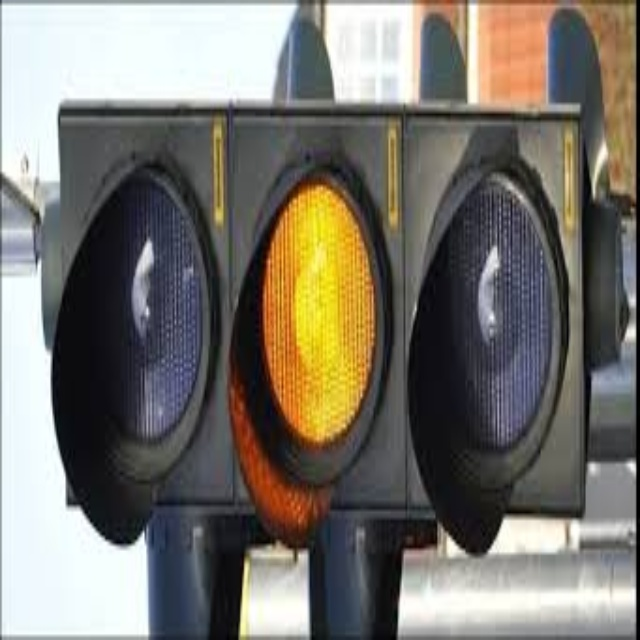yellow_light: (262, 177, 383, 454)
